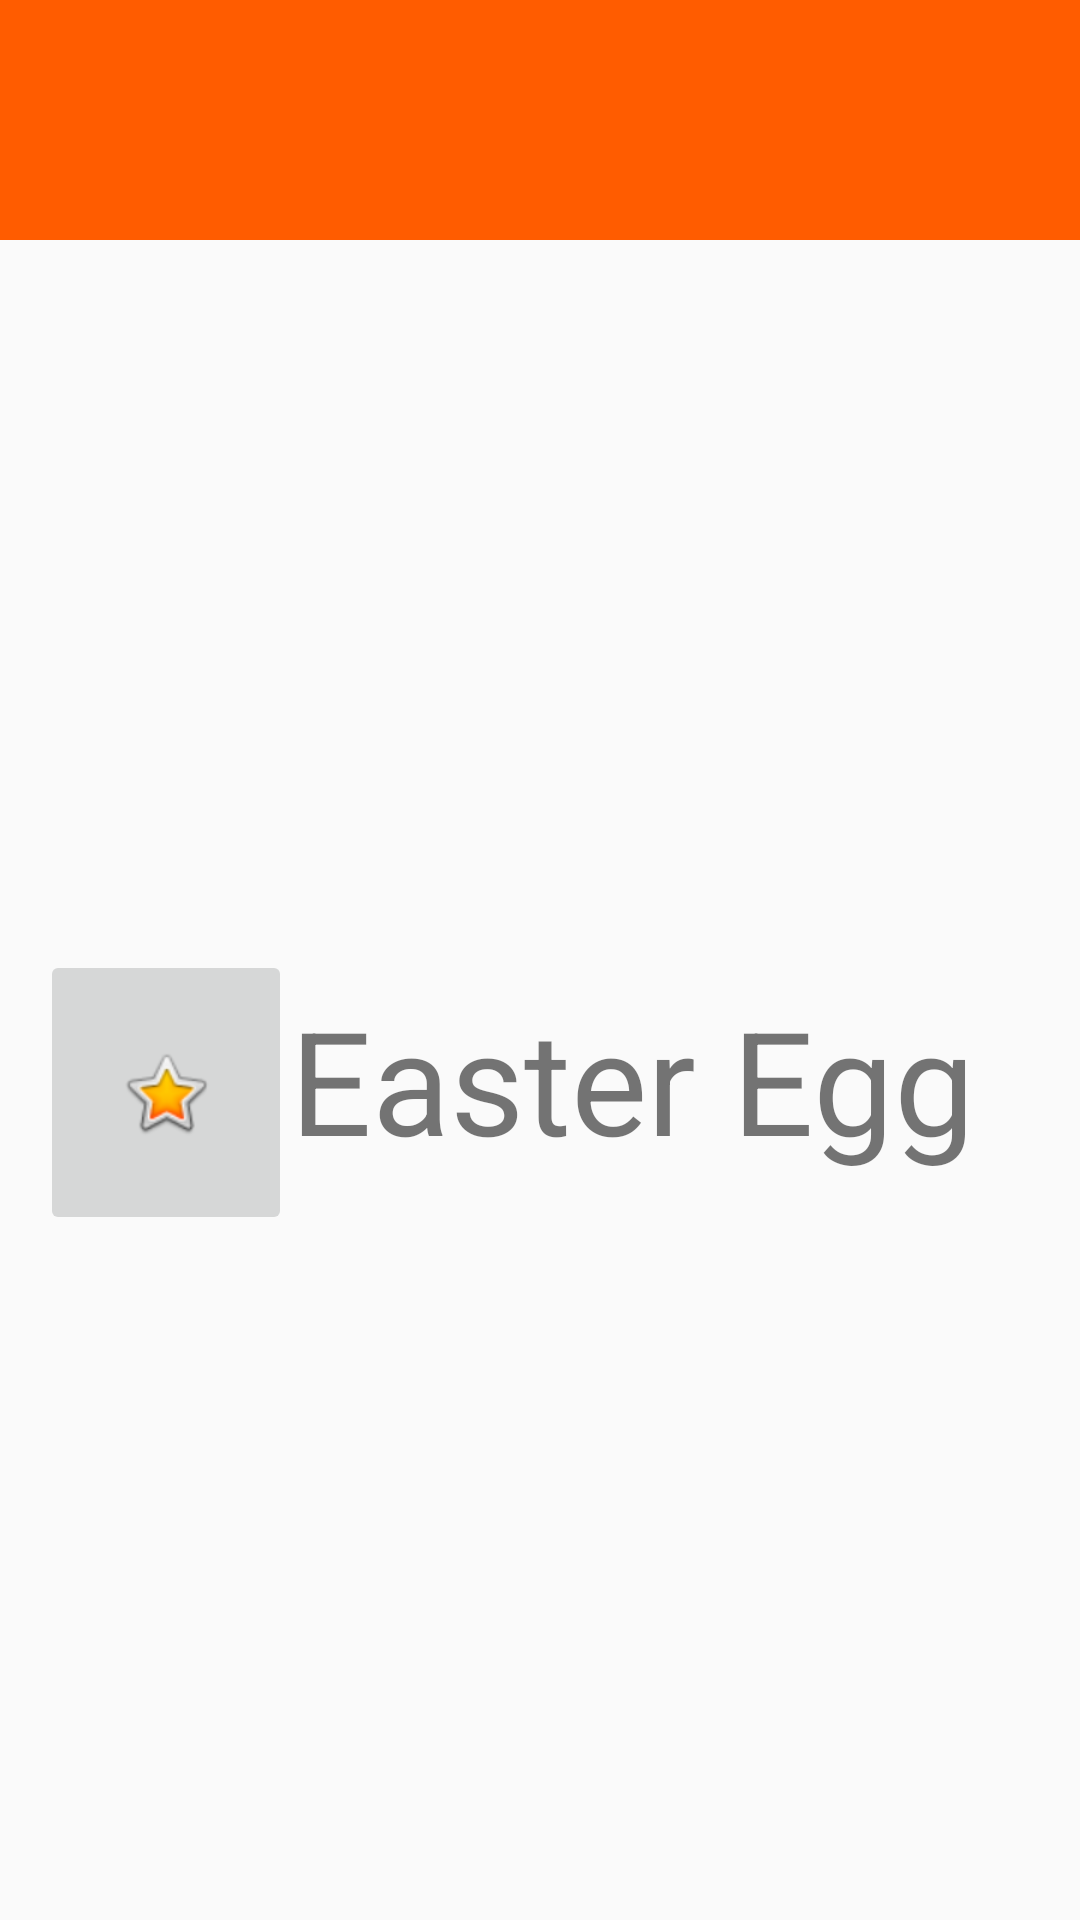

Icons on this 1080px×1920px Android screen, each with the point to tap as point (x, y):
star on: point (166, 1092)
